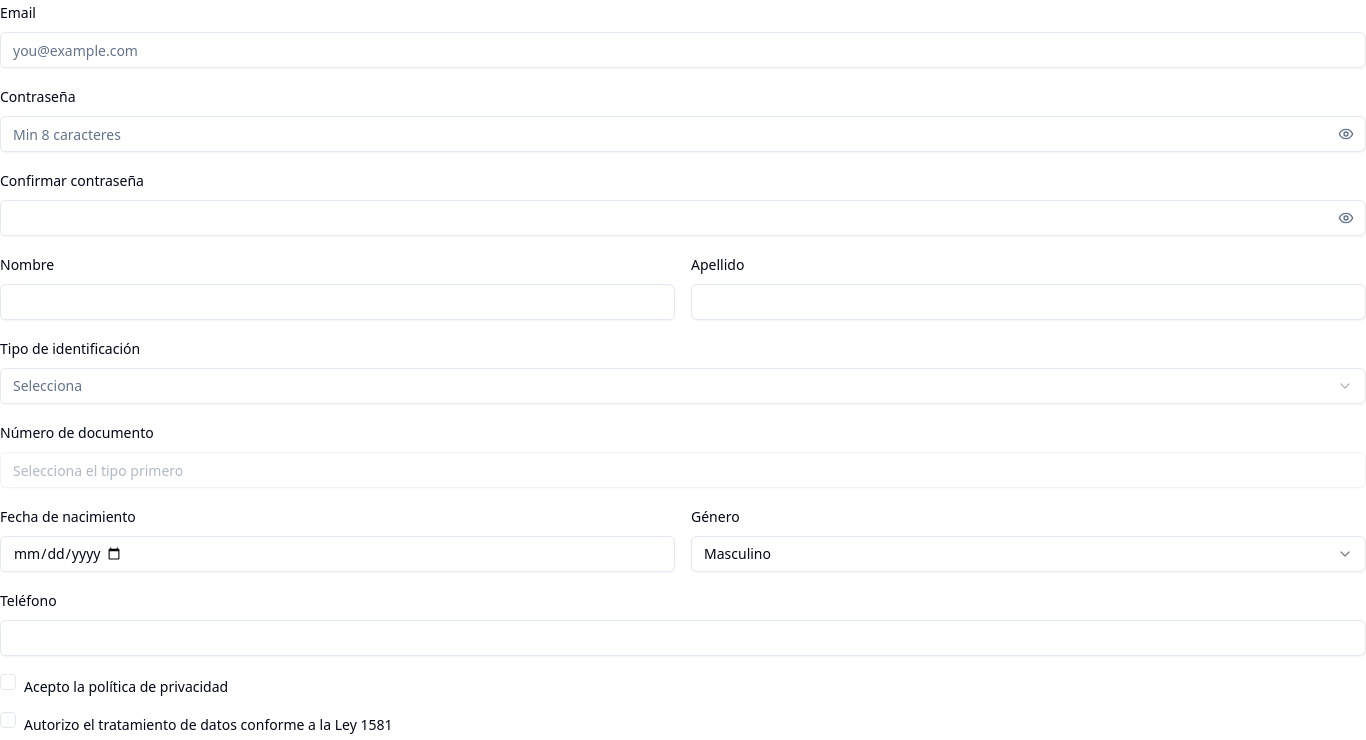
it: PatientRegistrationForm › Validación del formulario › debe validar que las contraseñas coincidan
Type "Password123" into the password field labelled "Contraseña" at (683, 134), box x1=0 y1=116 x2=1365 y2=152
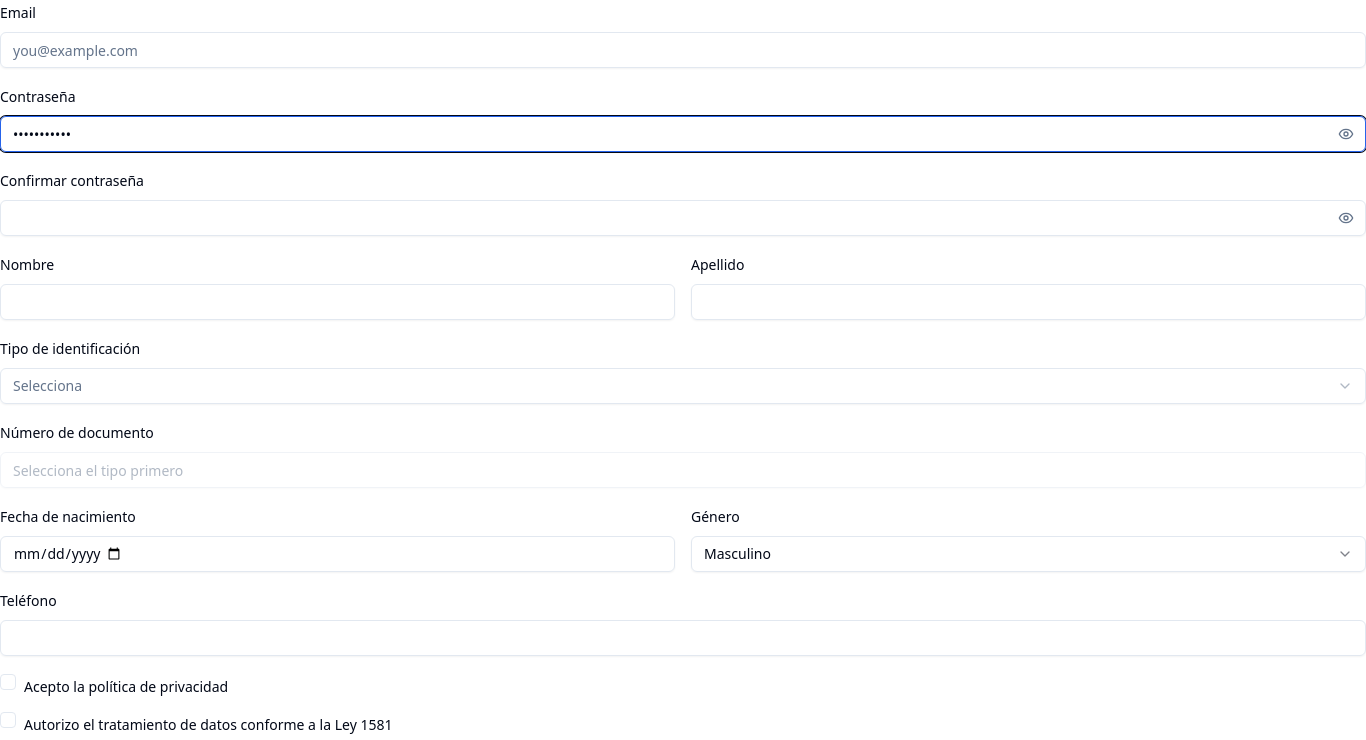
Type "DifferentPassword123" into the password field labelled "Confirmar contraseña" at (683, 218), box x1=0 y1=200 x2=1365 y2=236
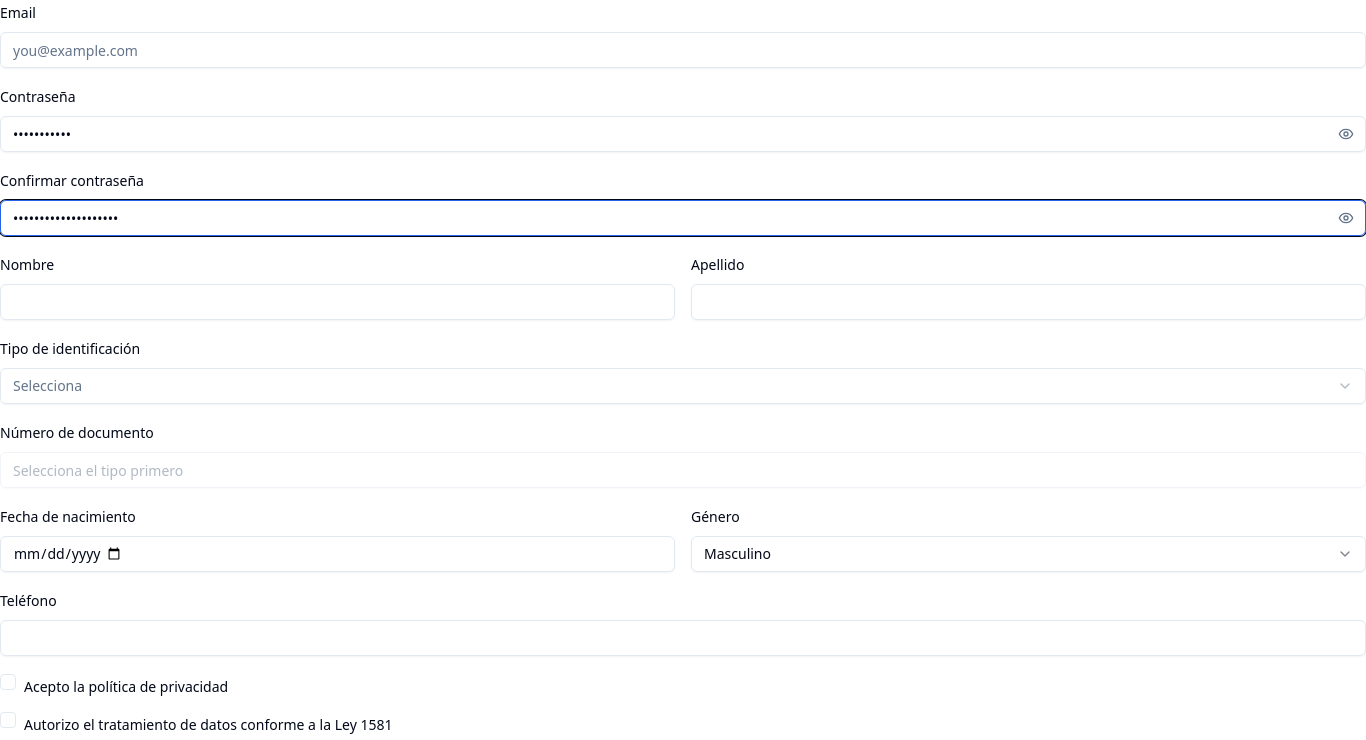
Press Tab
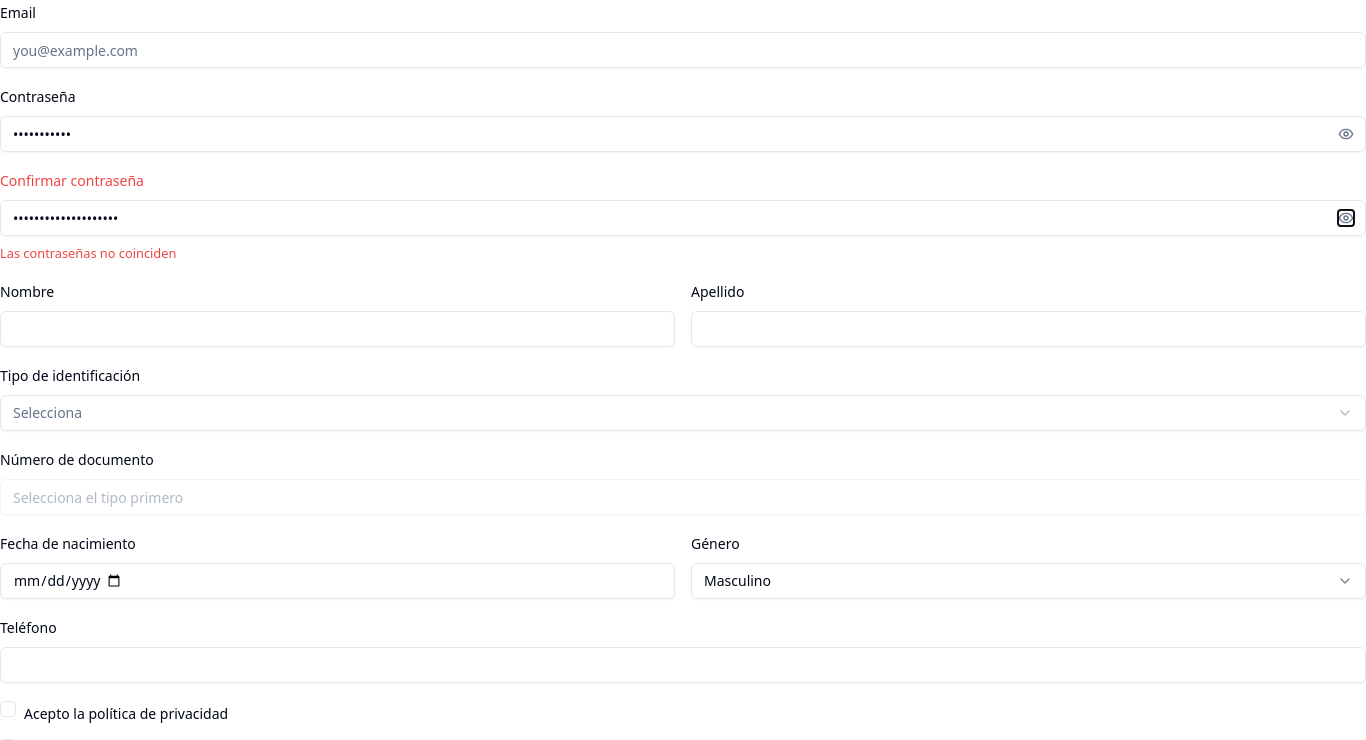
Check: the text "Las contraseñas no coinciden" is shown, box x1=0 y1=244 x2=176 y2=262
